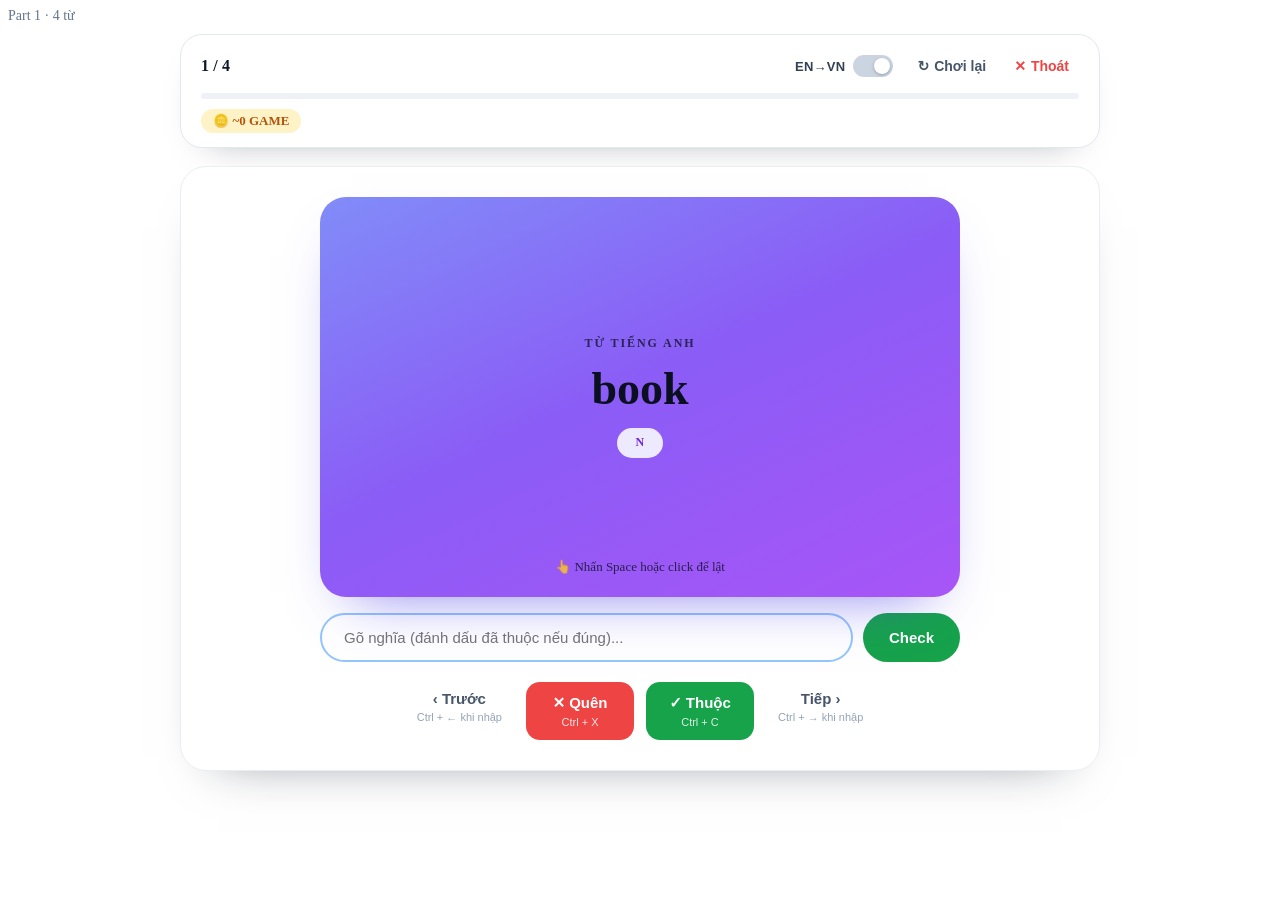
Test case: vocab game page › flashcard tron lai thu tu khi bam Choi lai
The width and height of the screenshot is (1280, 900).
Expected: the text "book" is shown, 591,363 -> 689,416
Step 1. Click the text "Tiếp ›" → [821, 698], box 801,690 -> 840,707
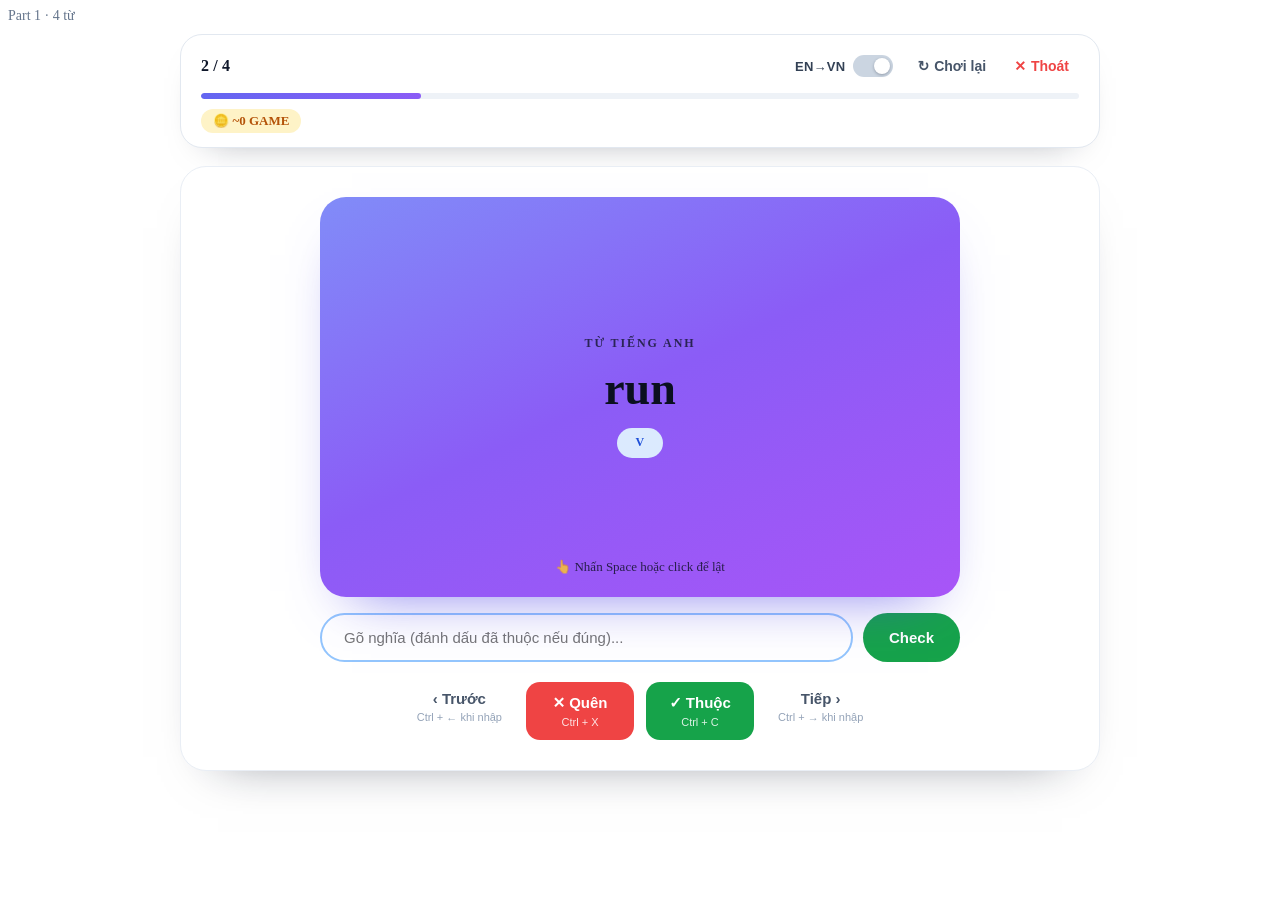
Result: the text "book" reads "run" at 604,363 -> 676,414
Step 2. Click the button "↻ Chơi lại" → [952, 66], box 908,52 -> 996,80
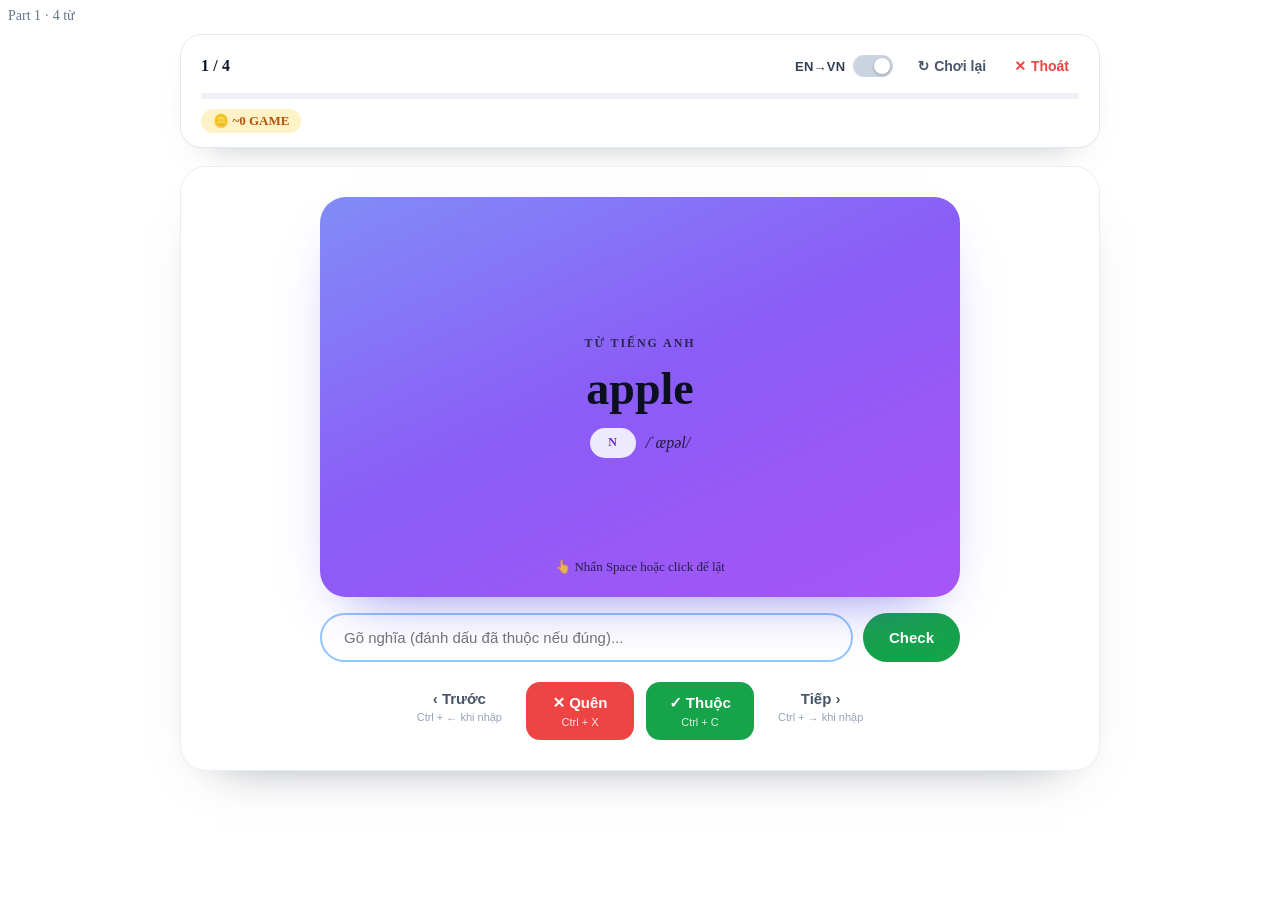
Result: the text with class "fc-word" reads "apple" at 586,363 -> 694,414
